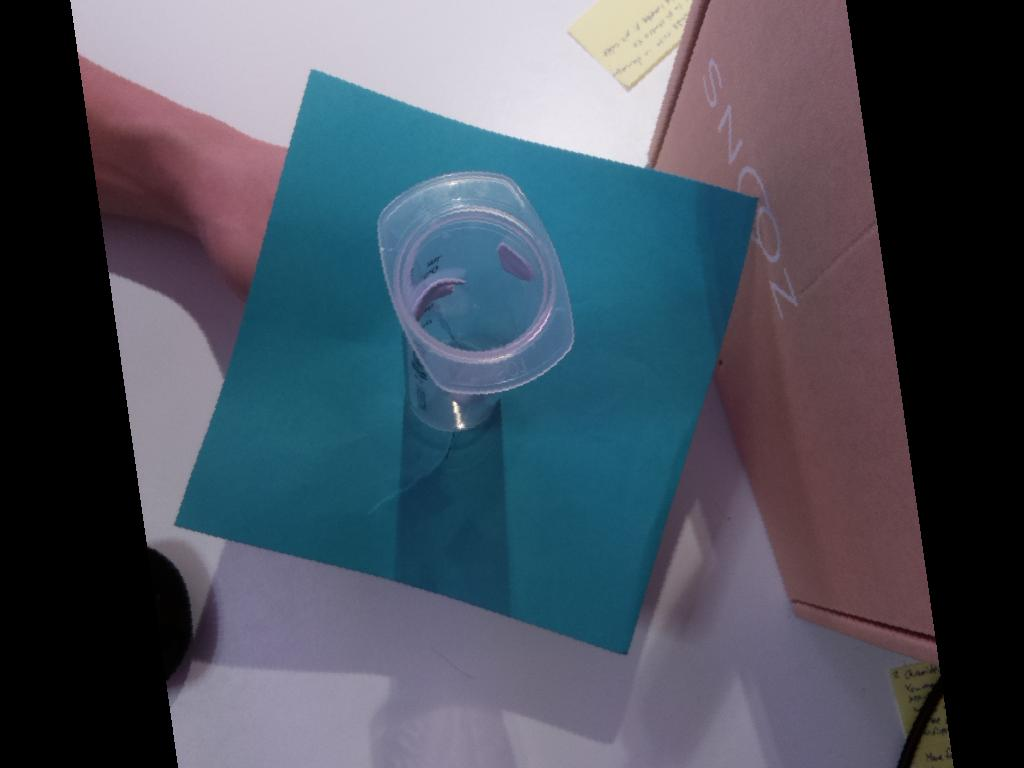dirty: (375, 167, 578, 396)
